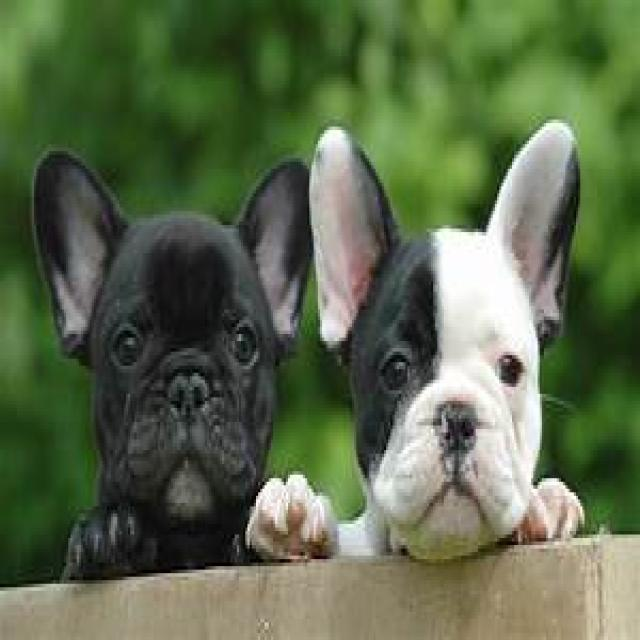dog: (248, 124, 584, 559), (36, 150, 311, 576)
